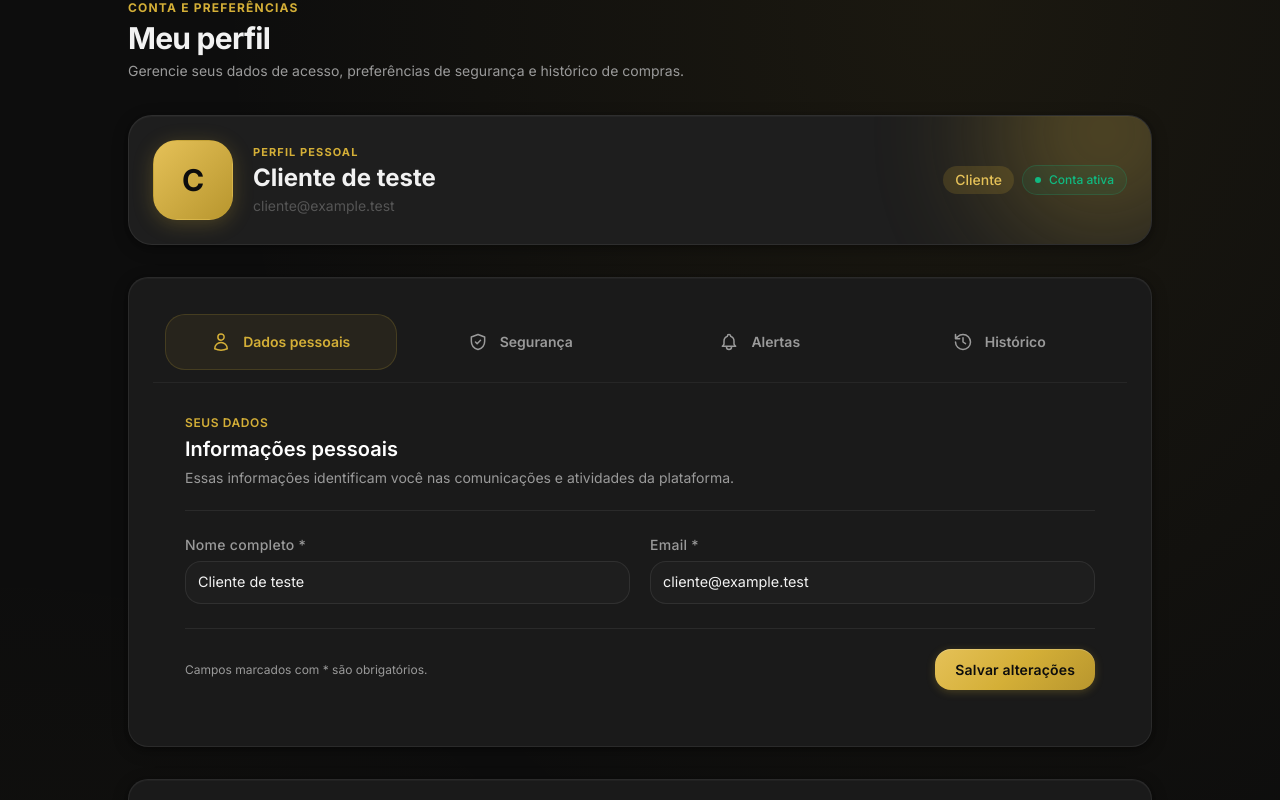
it: Profile account deletion › surfaces the alert center when the tab is opened
Click the tab "Alertas".
click(760, 342)  # box [644,314,876,370]
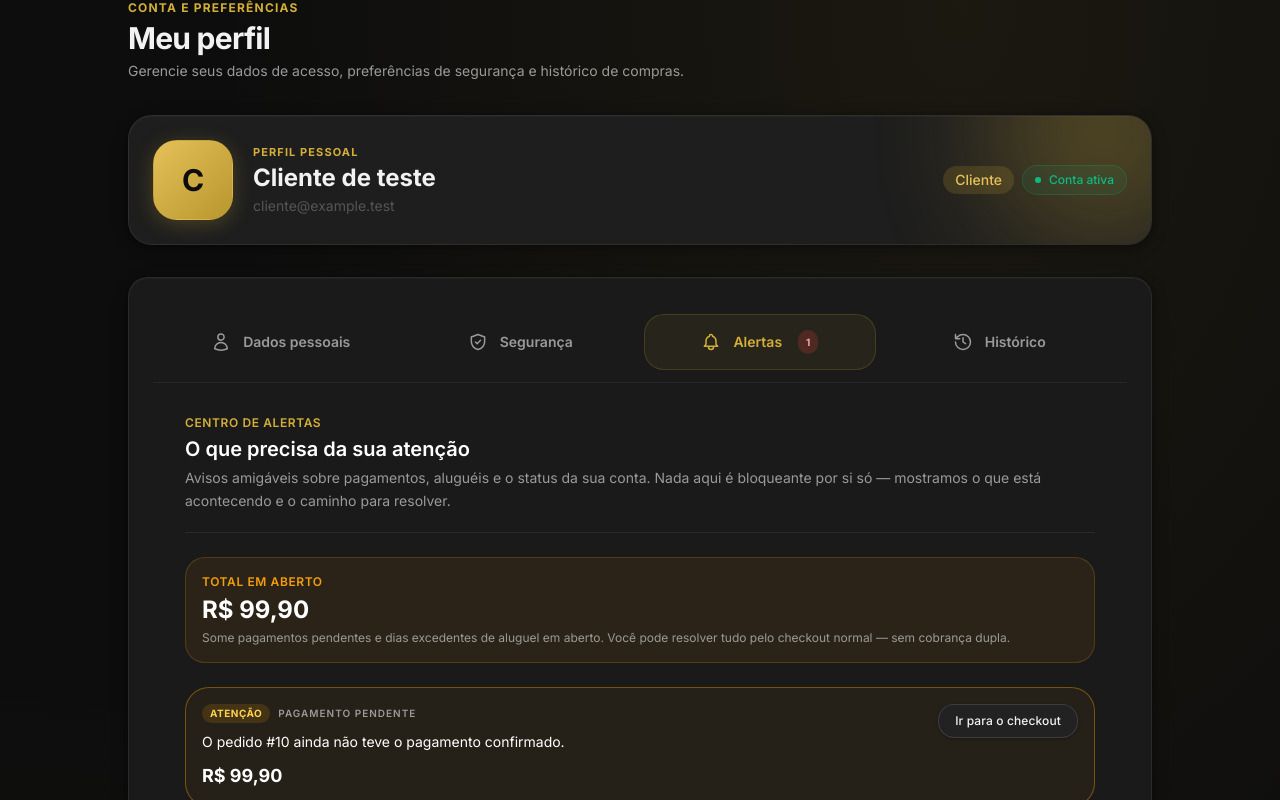
Expected: the heading "O que precisa da sua atenção" is shown, [185,437,470,461]
Expected: the text "O pedido #10 ainda não teve o pagamento confirmado." is shown, [202,733,565,750]
